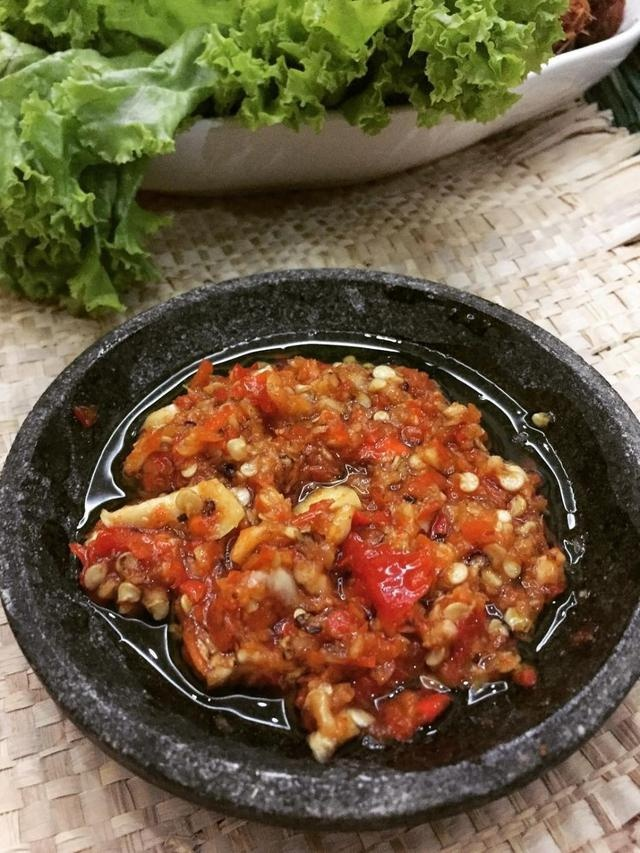sambal: (73, 352, 570, 747)
